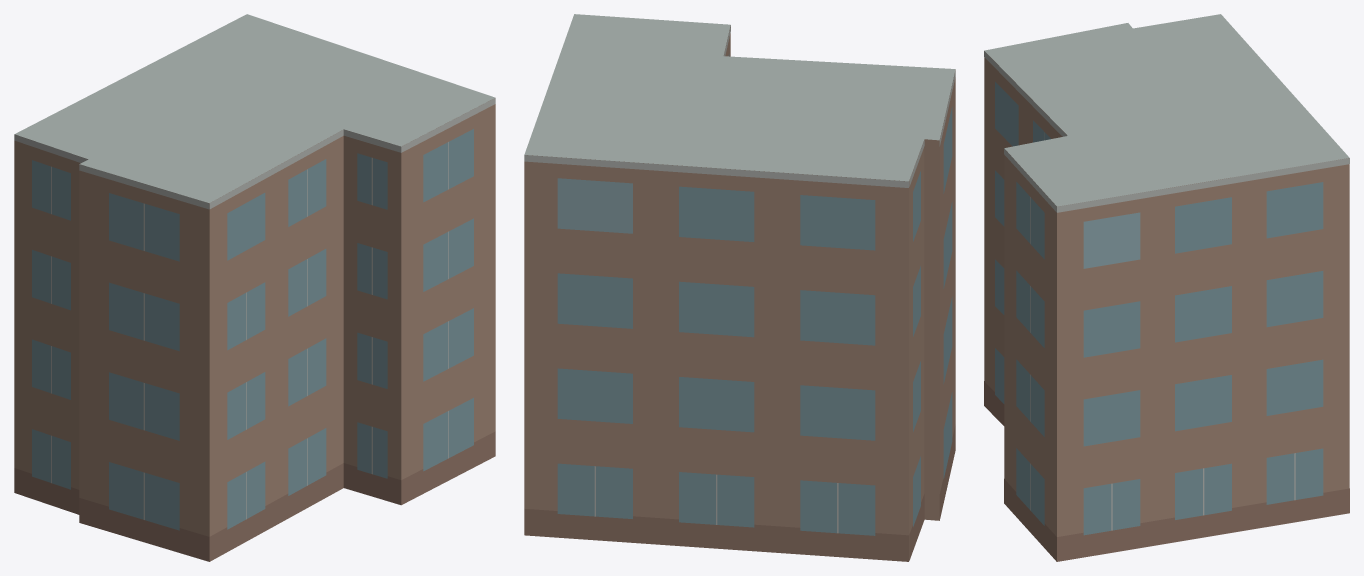
Rendered from survey-upis-32993991.glb.
3 views of the same model, side by side, from view 1: azimuth 30°, elevation 25°; view 2: azimuth 150°, elevation 25°; view 3: azimuth 270°, elevation 25° (orthographic). The views are drawn at different scales.
Visible parts, largest first — view 1: survey-upis-32993991.tmp; view 2: survey-upis-32993991.tmp; view 3: survey-upis-32993991.tmp.
Boxes of the visible parts, bbox=[...] form: survey-upis-32993991.tmp: bbox=[14, 14, 495, 561]; survey-upis-32993991.tmp: bbox=[524, 14, 955, 561]; survey-upis-32993991.tmp: bbox=[984, 14, 1349, 561].
Size of the model in its own units: 16.11 by 13.85 by 12.93.
